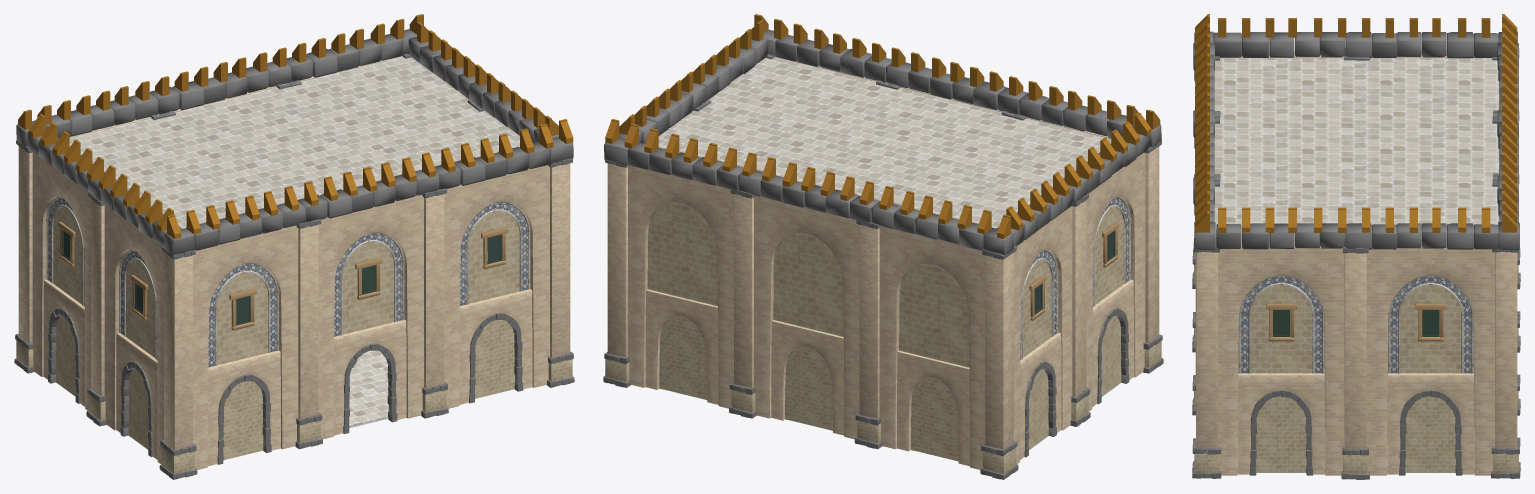
File: SM_admistrative_building_01.fbx
3 views of the same model, side by side, from view 1: azimuth 30°, elevation 25°; view 2: azimuth 150°, elevation 25°; view 3: azimuth 270°, elevation 25° (orthographic). The views are drawn at different scales.
Visible parts, largest first — view 1: Box580; view 2: Box580; view 3: Box580.
Part boxes in pixels (bbox=[...]): Box580: bbox=[14, 14, 574, 479]; Box580: bbox=[603, 14, 1163, 479]; Box580: bbox=[1192, 14, 1520, 479].
Size of the model in its own units: 626 by 382 by 429.
